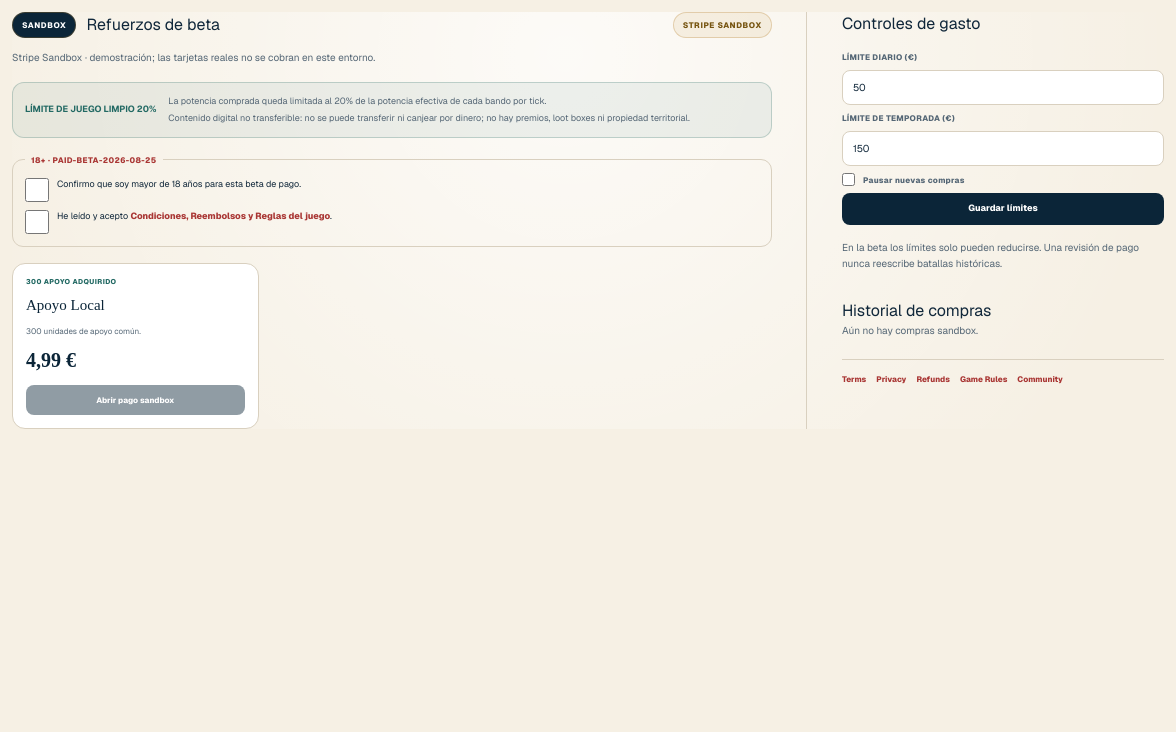
Test: PaymentPanel › renders API policy errors instead of assuming checkout success
The width and height of the screenshot is (1176, 732).
Click the checkbox labelled "Confirmo que soy mayor de 18 años para esta beta de pago.": click(37, 190) x1=25 y1=178 x2=49 y2=202
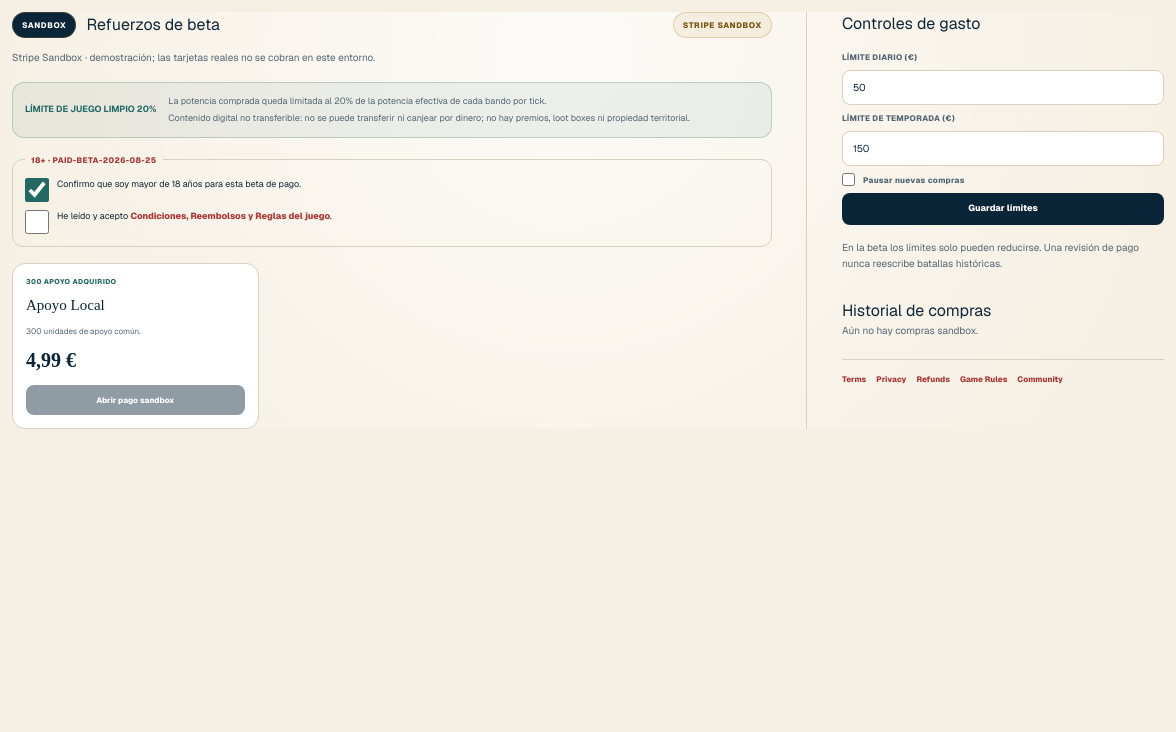
Click the checkbox labelled "Condiciones, Reembolsos": click(37, 222) x1=25 y1=210 x2=49 y2=234
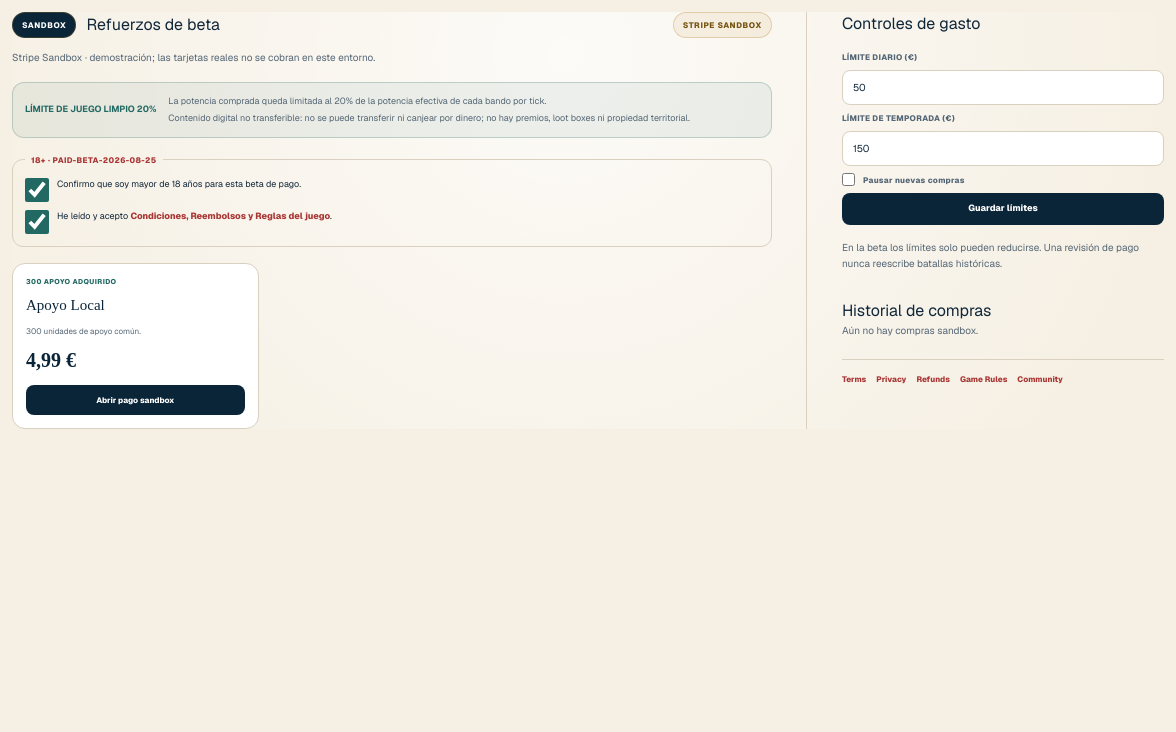
Click the button "Abrir pago sandbox": click(135, 400) x1=26 y1=385 x2=245 y2=415
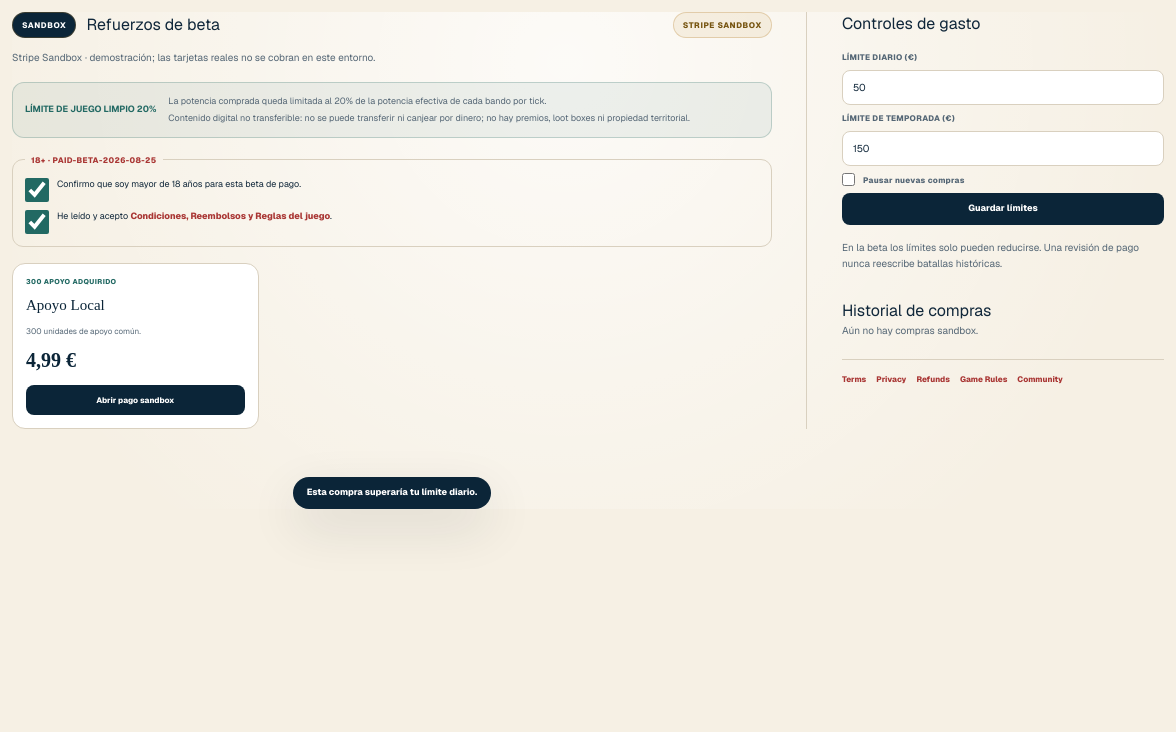
Now the message shows "límite diario", box x1=307 y1=486 x2=477 y2=498
